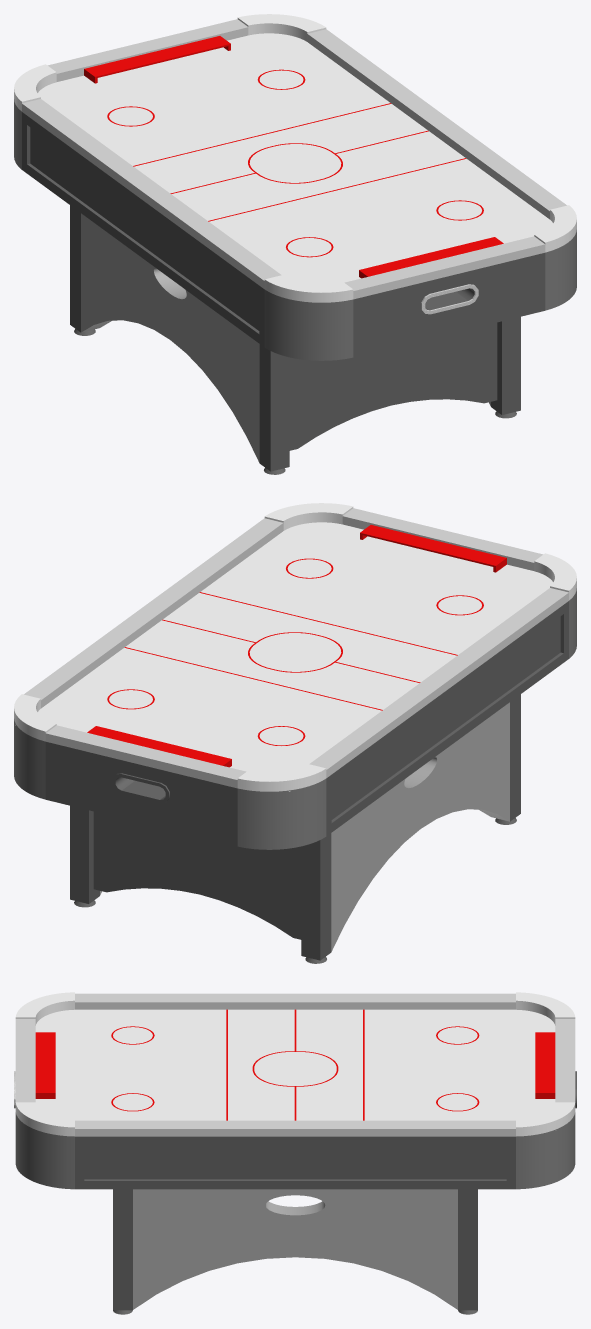
Rendered from hockeytablev4.dae.
3 views of the same model, one above another, from view 1: azimuth 30°, elevation 25°; view 2: azimuth 150°, elevation 25°; view 3: azimuth 270°, elevation 25° (orthographic). The views are drawn at different scales.
Parts seen in each view (by area): view 1: instance_13; view 2: instance_13; view 3: instance_13.
Boxes of the visible parts, box(x1,y1,x2,y2) form: instance_13: box(14, 14, 576, 474); instance_13: box(14, 503, 576, 963); instance_13: box(14, 992, 576, 1314).
Size of the model in its own units: 1.22 by 2.15 by 0.8382.
